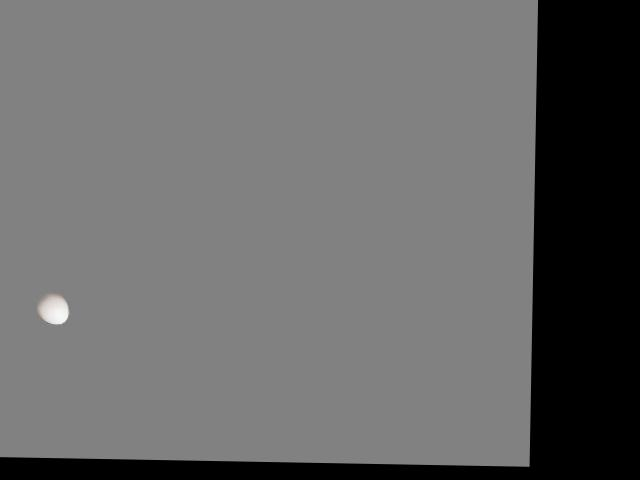egg: (35, 291, 68, 324)
